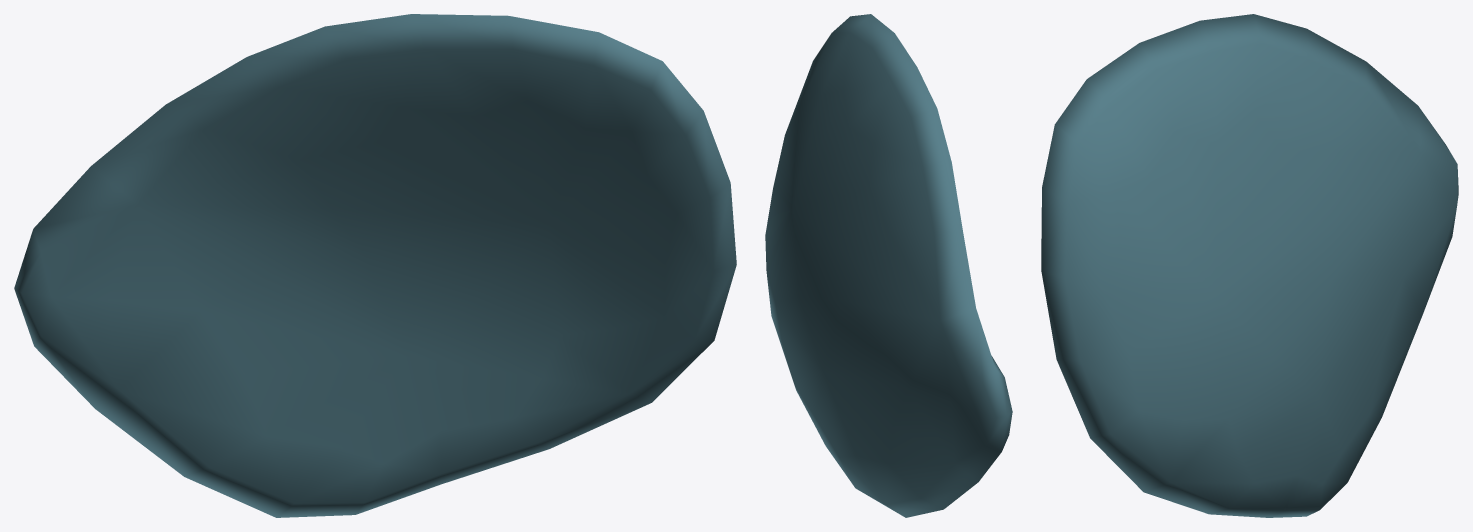
Rendered from Extensor_radialis_longus-Insertion.l_Generated_Mesh_From_X3D.56.glb.
The picture shows the model from 3 angles, left to right: view 1: azimuth 30°, elevation 25°; view 2: azimuth 150°, elevation 25°; view 3: azimuth 270°, elevation 25°; orthographic projection. The views are drawn at different scales.
Visible parts, largest first — view 1: Extensor_radialis_longus-Insertion.l_Generated_Mesh_From_X3D; view 2: Extensor_radialis_longus-Insertion.l_Generated_Mesh_From_X3D; view 3: Extensor_radialis_longus-Insertion.l_Generated_Mesh_From_X3D.
Boxes of the visible parts, bbox=[...] form: Extensor_radialis_longus-Insertion.l_Generated_Mesh_From_X3D: bbox=[14, 14, 736, 517]; Extensor_radialis_longus-Insertion.l_Generated_Mesh_From_X3D: bbox=[765, 14, 1012, 517]; Extensor_radialis_longus-Insertion.l_Generated_Mesh_From_X3D: bbox=[1041, 14, 1458, 517].
Bounding box in the file's own units: 0.00535 × 0.00549 × 0.00415.
